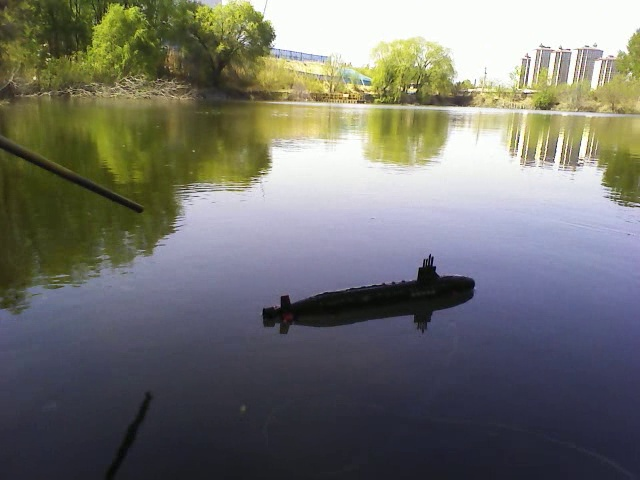submarine: (262, 254, 480, 328)
